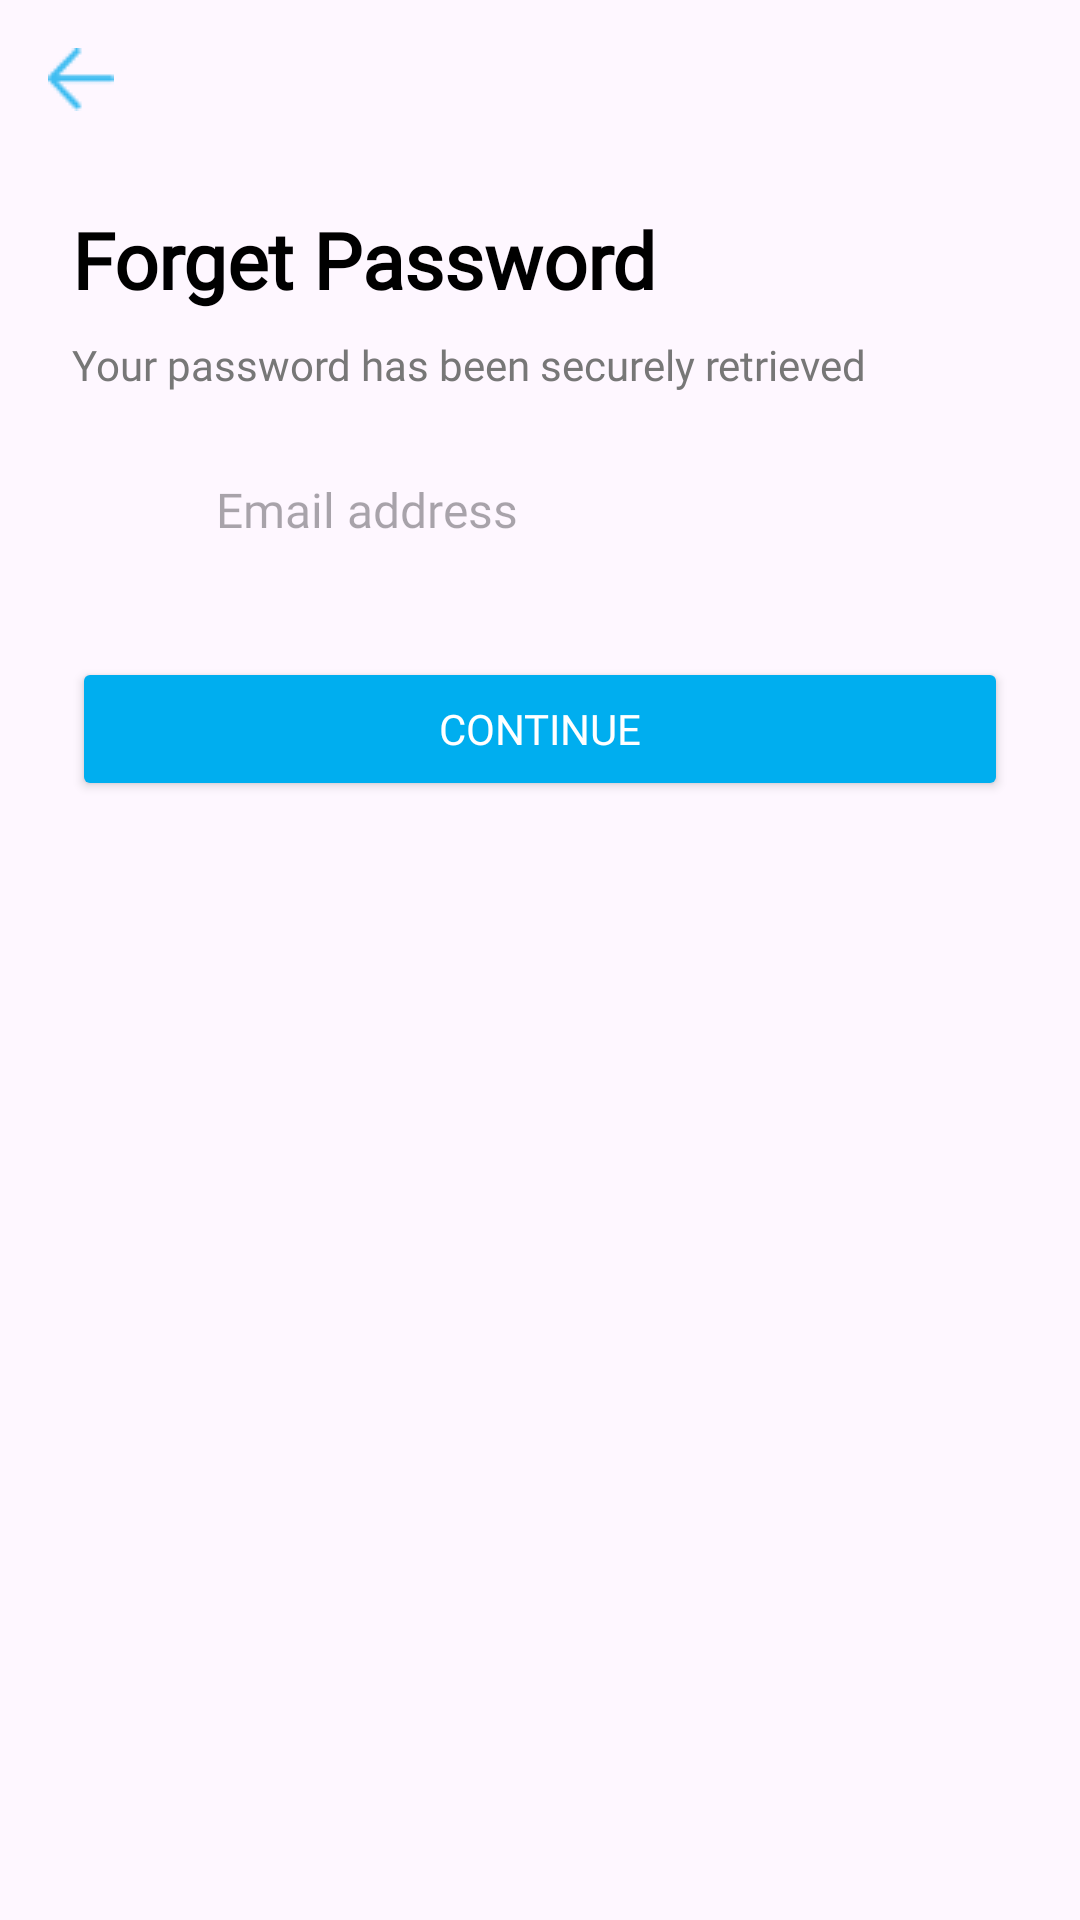

Named icons in this screenshot (1080x1920) and their centers, point (x, y):
back: point (81, 79)
